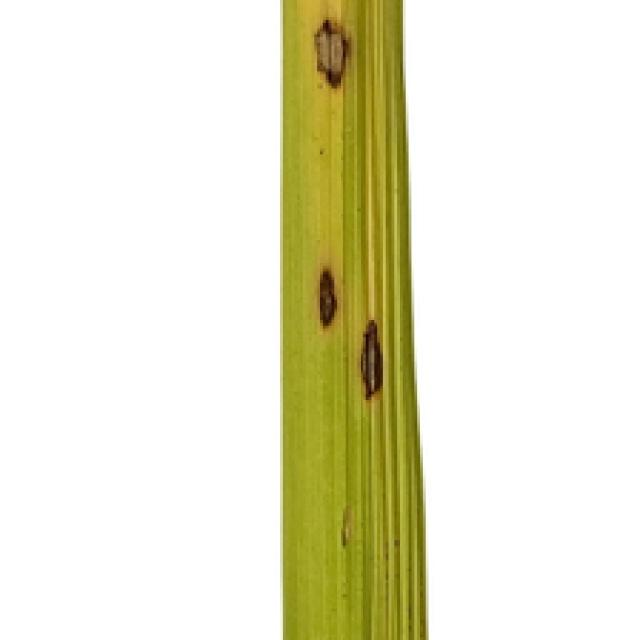Rice___Rice_Blast: (282, 0, 432, 637)
